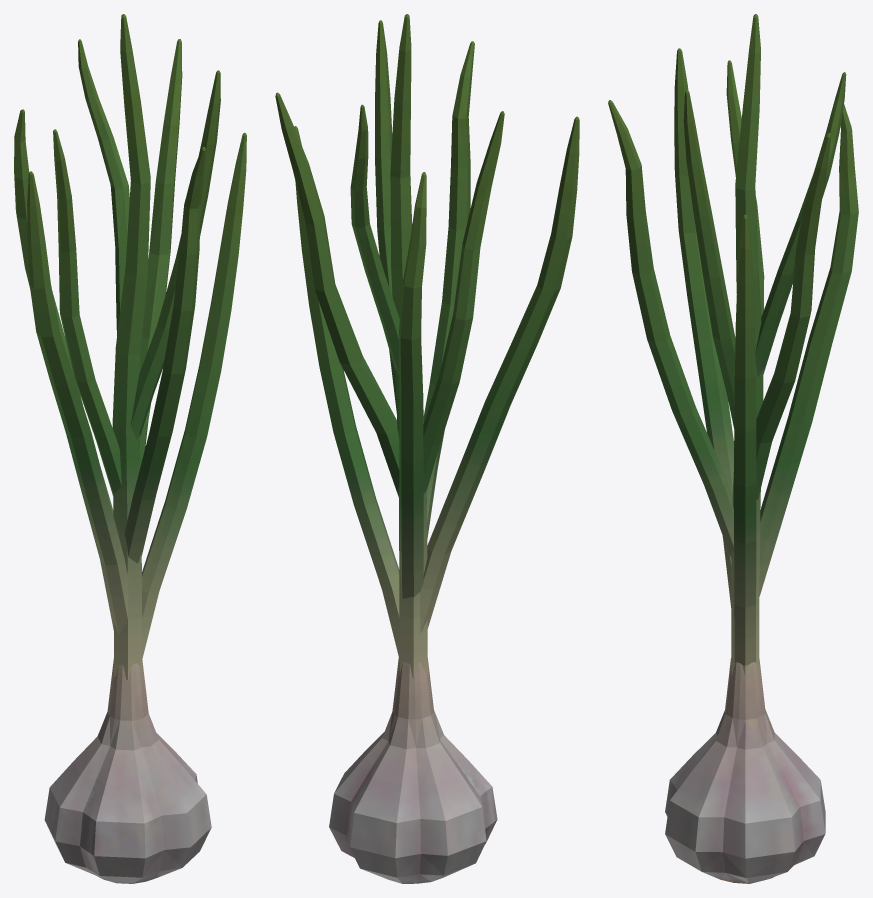
Rendered from Garlic_03.obj.
3 renders of one model, left to right at view 1: azimuth 30°, elevation 25°; view 2: azimuth 150°, elevation 25°; view 3: azimuth 270°, elevation 25°, orthographic.
Size of the model in its own units: 0.3862 by 1.25 by 0.3335.
Materials: 1 (1 with a texture image).
